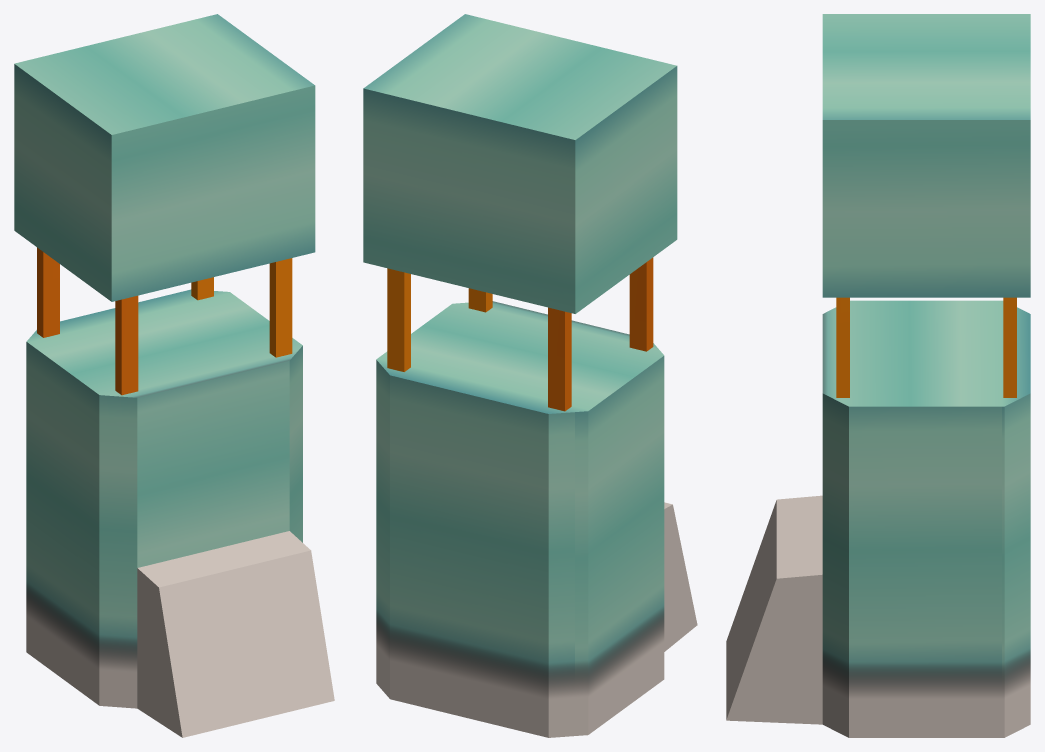
The model's file is Tall_B_2.fbx.
3 renders of one model, left to right at view 1: azimuth 30°, elevation 25°; view 2: azimuth 150°, elevation 25°; view 3: azimuth 270°, elevation 25°, orthographic. The views are drawn at different scales.
Parts seen in each view (by area): view 1: Tall_B_2; view 2: Tall_B_2; view 3: Tall_B_2.
Part boxes in pixels (x1,y1,x2,y2): Tall_B_2: [14, 14, 334, 737]; Tall_B_2: [363, 14, 697, 737]; Tall_B_2: [726, 14, 1030, 737].
Size of the model in its own units: 4586 by 12489 by 5575.
